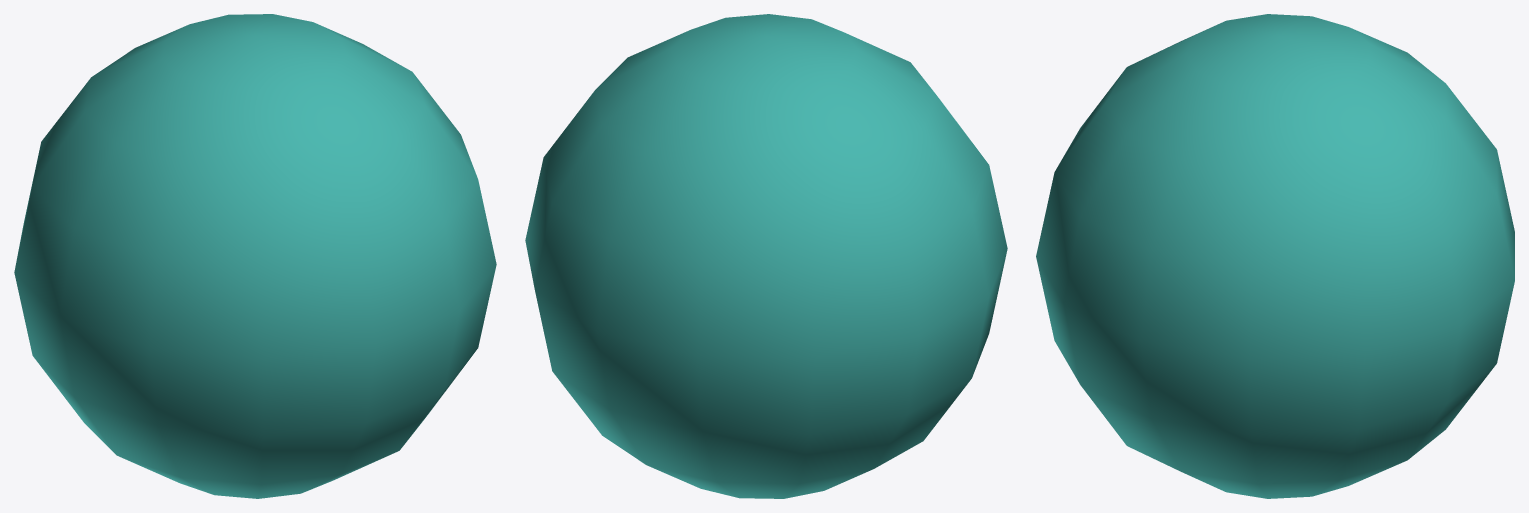
Rendered from spherecreep.dae.
3 views of the same model, side by side, from view 1: azimuth 30°, elevation 25°; view 2: azimuth 150°, elevation 25°; view 3: azimuth 270°, elevation 25° (orthographic).
Visible parts, largest first — view 1: Ball; view 2: Ball; view 3: Ball.
Boxes of the visible parts, bbox=[...] form: Ball: bbox=[14, 14, 496, 498]; Ball: bbox=[525, 14, 1007, 498]; Ball: bbox=[1036, 14, 1514, 498].
Size of the model in its own units: 0.9927 by 1 by 0.9855.
